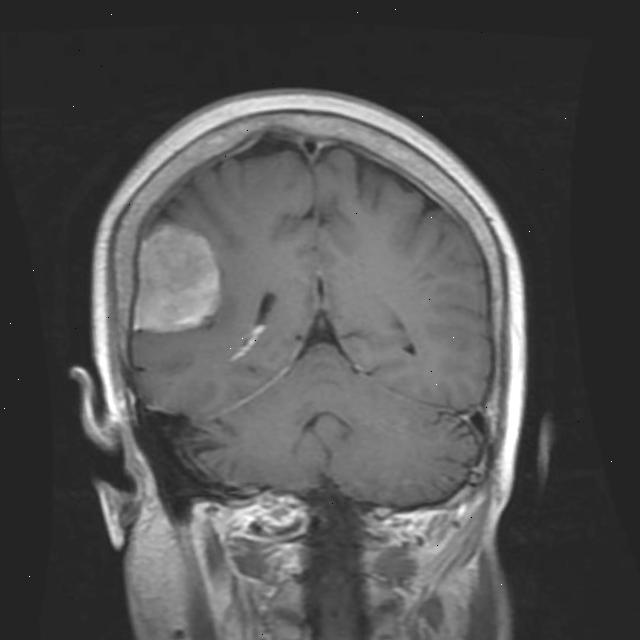Meningioma: (119, 213, 226, 341)
